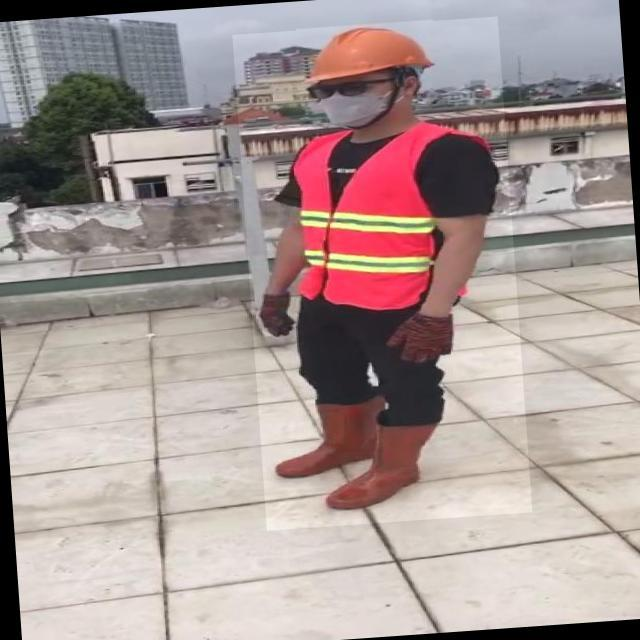Gloves: (386, 310, 457, 365), (258, 293, 295, 338)
Helmet: (296, 19, 436, 82)
Human: (232, 16, 532, 530)
Safety Boot: (320, 419, 440, 510), (271, 398, 388, 481)
Safety Vest: (285, 122, 481, 313)
